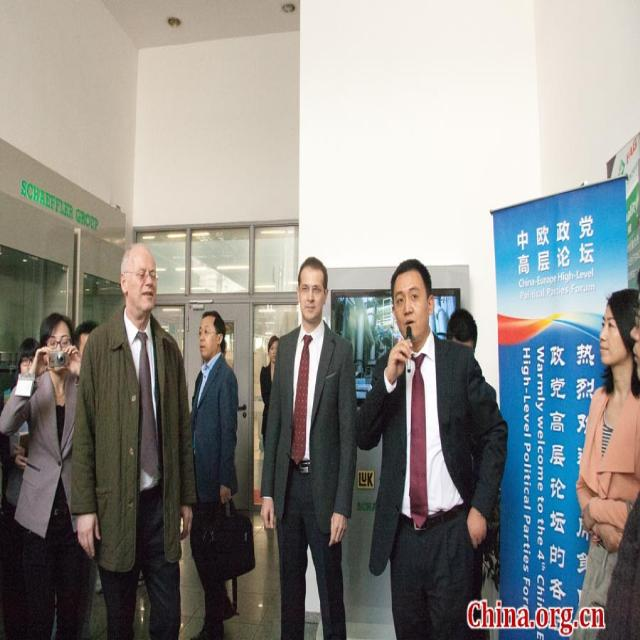body: (351, 255, 512, 639), (69, 238, 201, 639), (259, 254, 358, 640), (0, 310, 84, 640), (568, 286, 639, 639), (184, 309, 258, 639), (581, 287, 640, 640), (188, 327, 237, 605), (1, 334, 46, 528), (258, 334, 280, 453), (71, 319, 103, 373), (445, 306, 479, 353)
